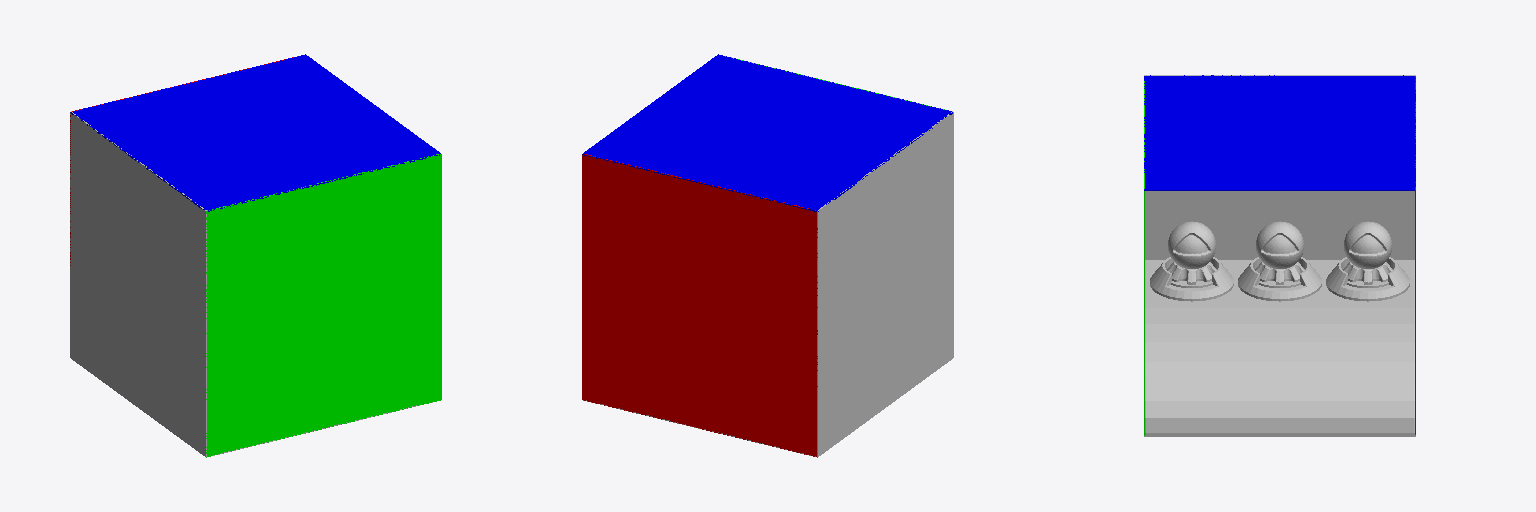
File: CornellBox.obj
3 renders of one model, left to right at view 1: azimuth 30°, elevation 25°; view 2: azimuth 150°, elevation 25°; view 3: azimuth 270°, elevation 25°, orthographic.
Parts seen in each view (by area): view 1: Cube.002, Cube, Cube.001; view 2: Cube.003, Cube, Cube.001; view 3: Cube.004, Cube.001, Cube, Icosphere, Icosphere.001, Icosphere.002, Cylinder, Cylinder.005, Cylinder.008, Cylinder.003, Cylinder.006, Cylinder.002.
Part boxes in pixels (left/top/right/bottom): Cube.002: left=206, top=154, right=441, bottom=457; Cube: left=70, top=111, right=432, bottom=456; Cube.001: left=70, top=54, right=440, bottom=211; Cube.003: left=582, top=153, right=817, bottom=456; Cube: left=583, top=111, right=953, bottom=457; Cube.001: left=582, top=54, right=952, bottom=211; Cube.004: left=1145, top=260, right=1414, bottom=434; Cube.001: left=1144, top=75, right=1415, bottom=190; Cube: left=1144, top=75, right=1415, bottom=436; Icosphere: left=1256, top=221, right=1303, bottom=268; Icosphere.001: left=1344, top=221, right=1391, bottom=268; Icosphere.002: left=1168, top=221, right=1215, bottom=268; Cylinder: left=1238, top=257, right=1321, bottom=301; Cylinder.005: left=1326, top=257, right=1409, bottom=301; Cylinder.008: left=1150, top=257, right=1233, bottom=301; Cylinder.003: left=1343, top=262, right=1392, bottom=284; Cylinder.006: left=1167, top=262, right=1216, bottom=284; Cylinder.002: left=1255, top=262, right=1304, bottom=284.
Size of the model in its own units: 2.2 by 2.2 by 2.2.